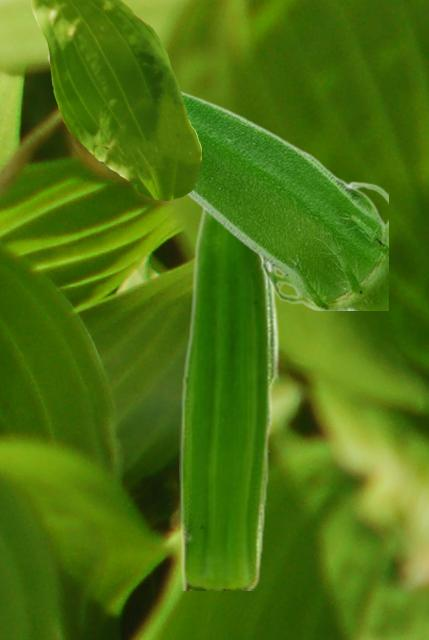okra: (46, 51, 387, 309), (179, 207, 279, 589)
